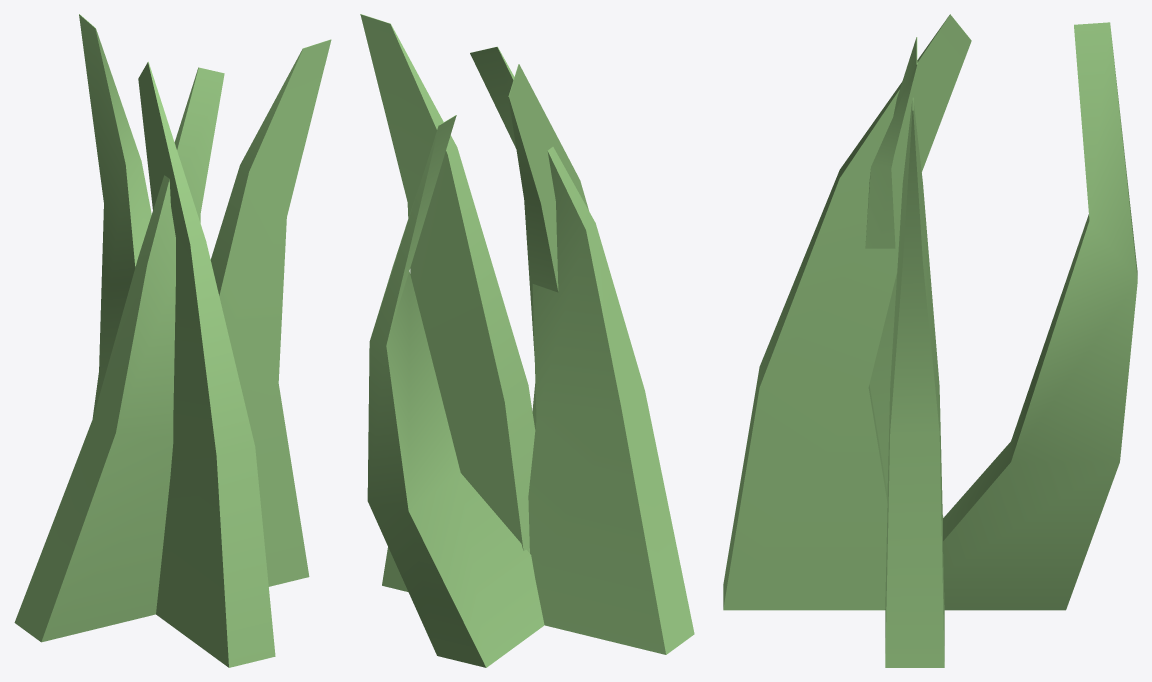
Rendered from grass2.fbx.
3 views of the same model, side by side, from view 1: azimuth 30°, elevation 25°; view 2: azimuth 150°, elevation 25°; view 3: azimuth 270°, elevation 25° (orthographic). The views are drawn at different scales.
Parts seen in each view (by area): view 1: grass2_pCube72; view 2: grass2_pCube72; view 3: grass2_pCube72.
Boxes of the visible parts, <box> form: grass2_pCube72: <box>14,14,331,667</box>; grass2_pCube72: <box>360,14,694,667</box>; grass2_pCube72: <box>723,14,1137,667</box>.
Size of the model in its own units: 1.59 by 2.64 by 1.7.
